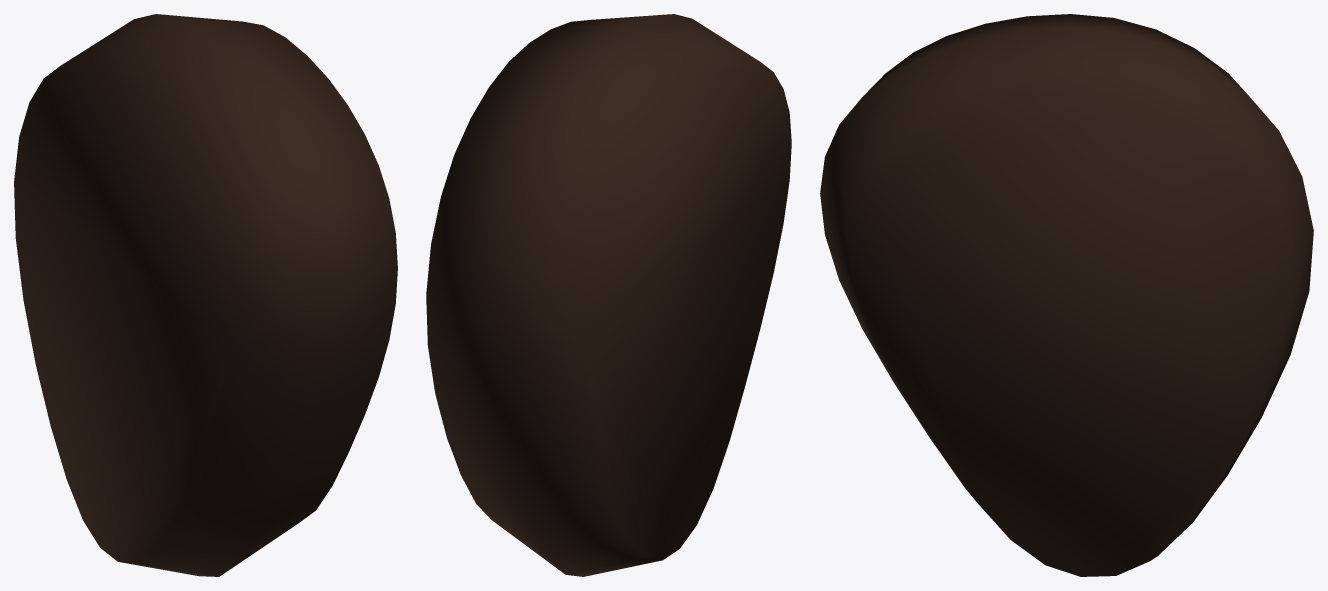
Rendered from Hair2M.glb.
3 views of the same model, side by side, from view 1: azimuth 30°, elevation 25°; view 2: azimuth 150°, elevation 25°; view 3: azimuth 270°, elevation 25° (orthographic). The views are drawn at different scales.
Parts seen in each view (by area): view 1: Hair2M.001; view 2: Hair2M.001; view 3: Hair2M.001.
Boxes of the visible parts, x1=… form: Hair2M.001: x1=14, y1=14, x2=397, y2=576; Hair2M.001: x1=426, y1=14, x2=791, y2=576; Hair2M.001: x1=820, y1=14, x2=1313, y2=576.
Size of the model in its own units: 1.15 by 3.72 by 3.06.
